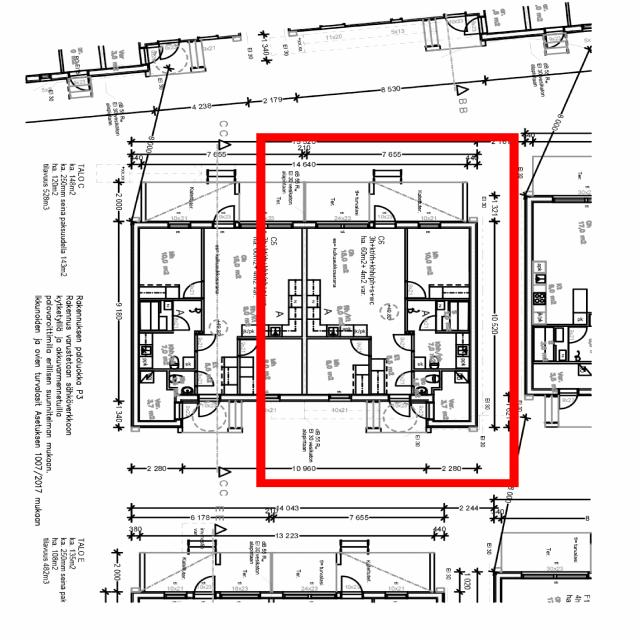door: (374, 202, 396, 229), (389, 394, 409, 419), (408, 403, 434, 419), (350, 340, 372, 356), (404, 282, 426, 298), (393, 335, 415, 350), (395, 372, 415, 386), (419, 316, 437, 330)
